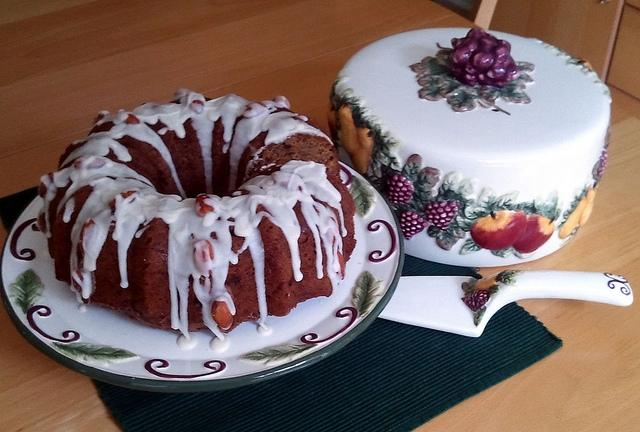grape: (476, 53, 496, 72), (478, 36, 497, 54), (453, 47, 473, 64), (602, 150, 608, 159), (401, 186, 408, 193), (408, 184, 414, 192), (396, 182, 404, 187), (394, 186, 400, 192), (448, 212, 454, 218), (443, 221, 450, 226), (411, 225, 416, 231), (478, 296, 483, 301), (601, 166, 606, 170)
